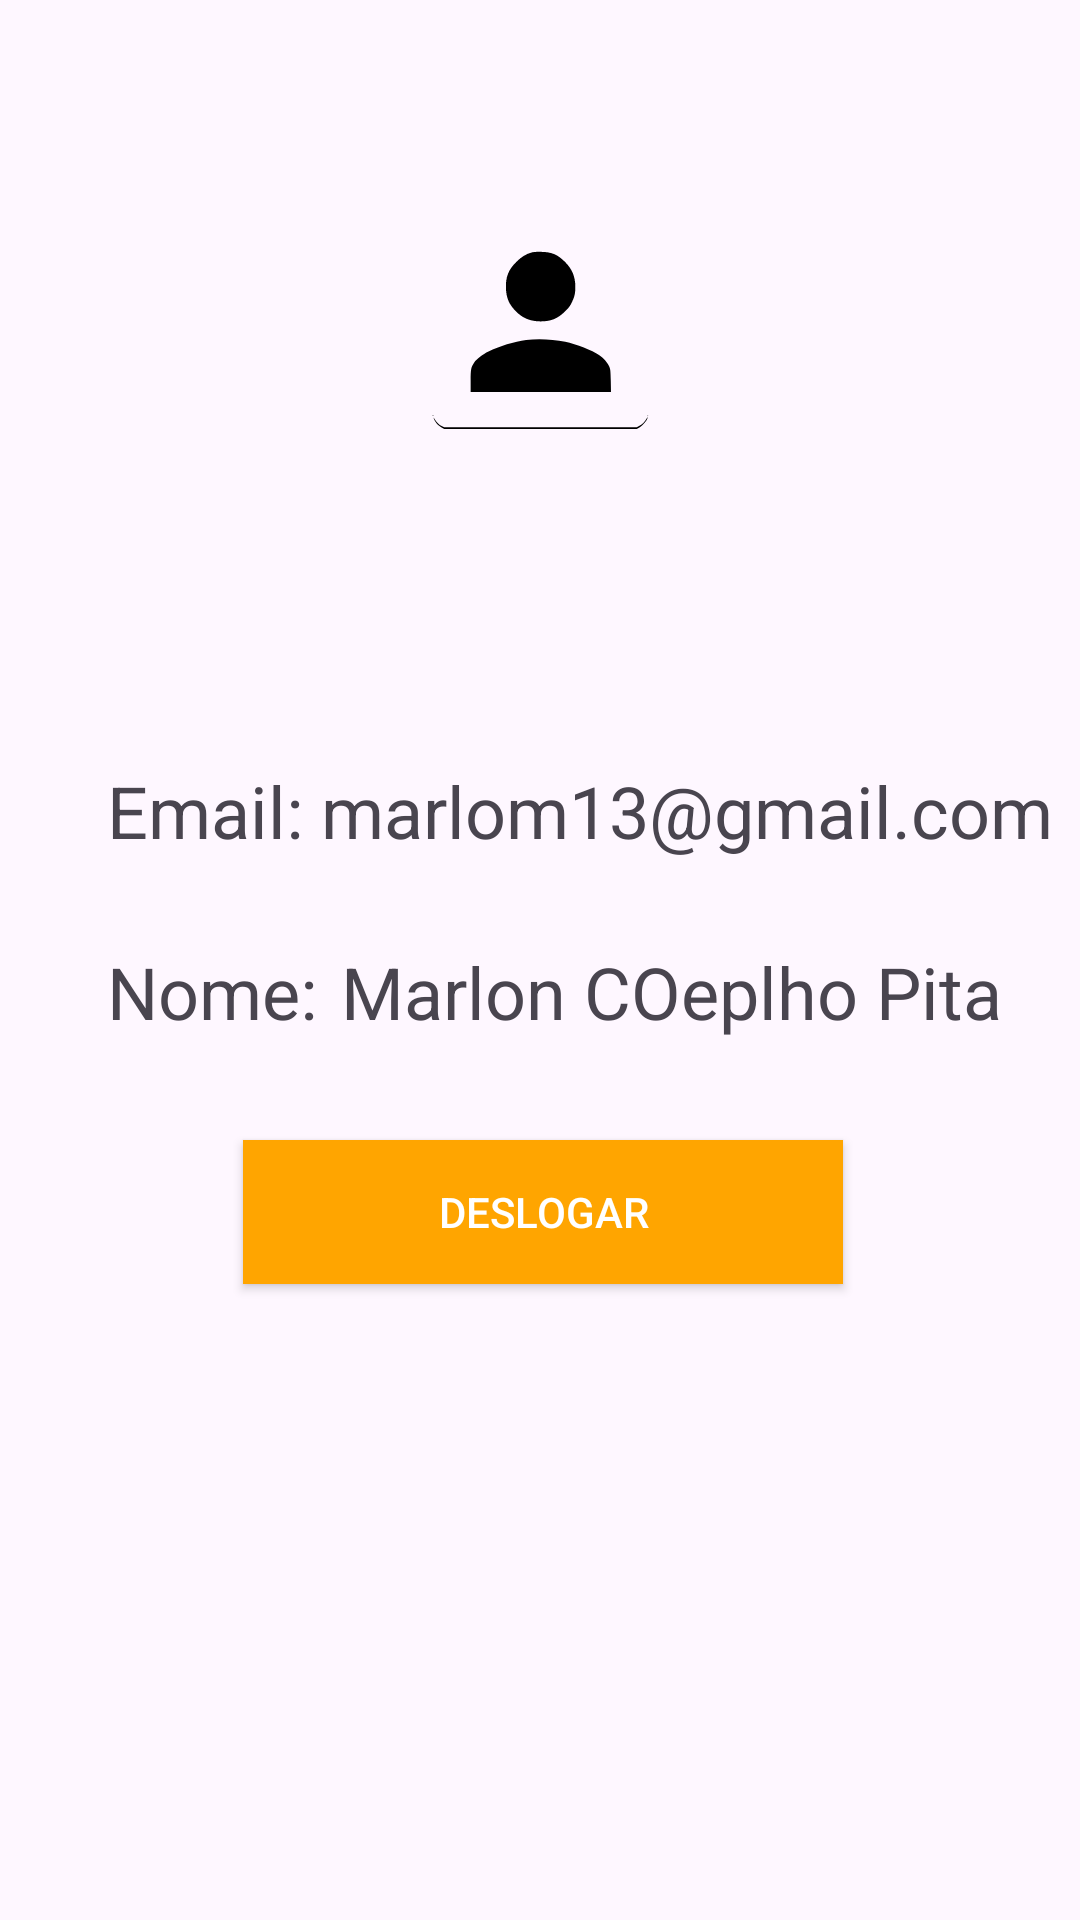

Screen size 1080px×1920px. Icon name, then its center in pixels as point (x, y):
person: point (540, 340)
